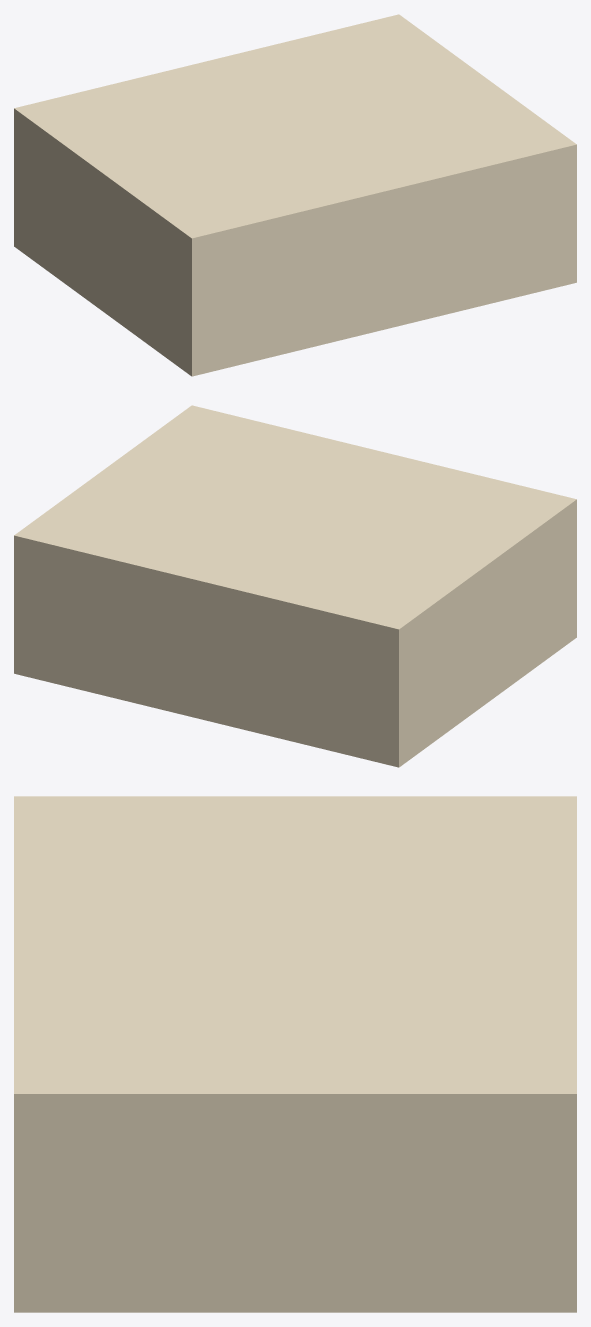
The model's file is shell.glb.
3 renders of one model, top to bottom at view 1: azimuth 30°, elevation 25°; view 2: azimuth 150°, elevation 25°; view 3: azimuth 270°, elevation 25°, orthographic. The views are drawn at different scales.
Parts seen in each view (by area): view 1: shell; view 2: shell; view 3: shell.
Part boxes in pixels (x1=…): shell: x1=14, y1=14, x2=576, y2=376; shell: x1=14, y1=405, x2=576, y2=767; shell: x1=14, y1=796, x2=576, y2=1312.
Size of the model in its own units: 0.35 by 0.12 by 0.28.
